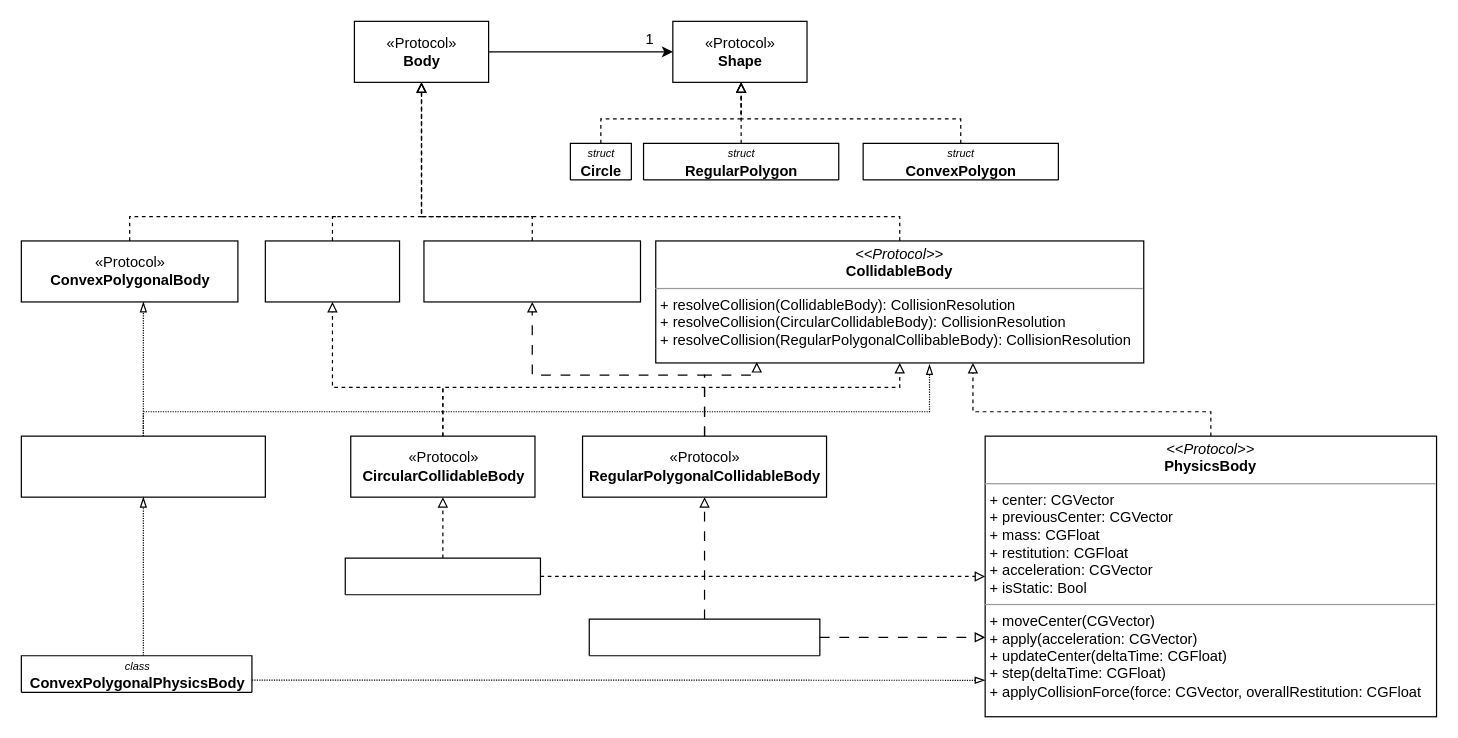
This 1458x738 diagram has some shape labels left out. The box of each missing label's shape, as (x1, y1, x2, y2) in pixels:
class CircularPhysicsBody: (344, 557, 540, 595)
class RegularPolygonalPhysicsBody: (588, 618, 820, 656)
«Protocol» CircularBody: (264, 240, 400, 302)
«Protocol» ConvexPolygonalCollidableBody: (20, 435, 265, 497)
«Protocol» RegularPolygonalBody: (423, 240, 640, 302)
